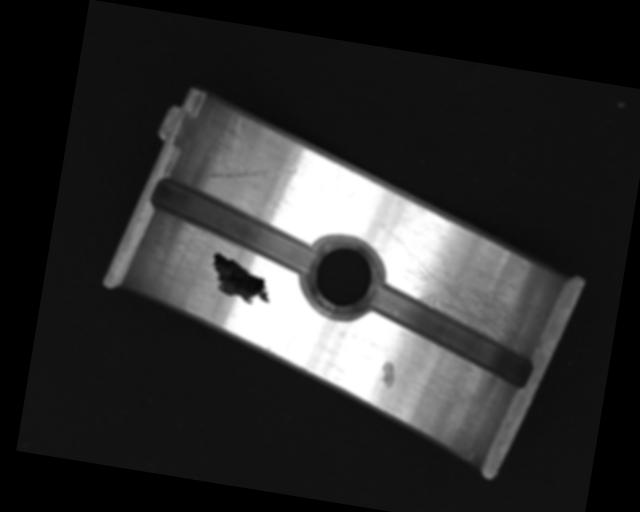blot: (206, 249, 277, 308)
bruise: (378, 360, 397, 390)
gap: (359, 279, 542, 389), (143, 176, 325, 276)
hole: (299, 232, 390, 323)
nick: (205, 152, 298, 192)
scratch: (381, 236, 550, 352)
